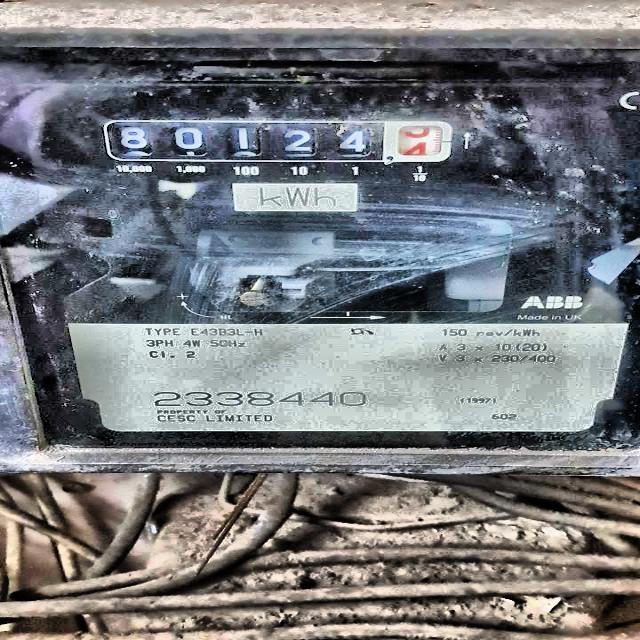Analog: (0, 1, 640, 466)
Reading: (109, 123, 445, 160)
Serial No.: (149, 388, 372, 408)
